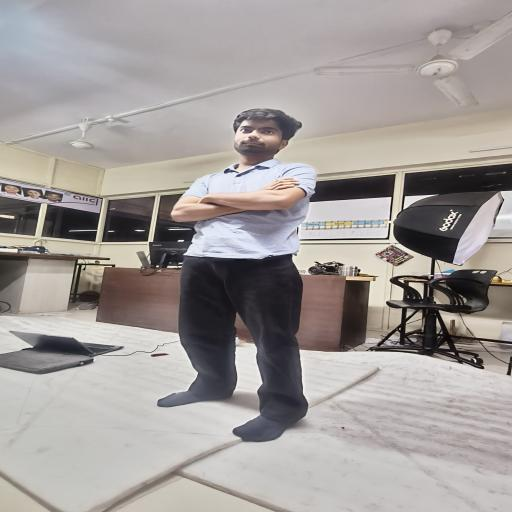survivor: (156, 108, 318, 442)
